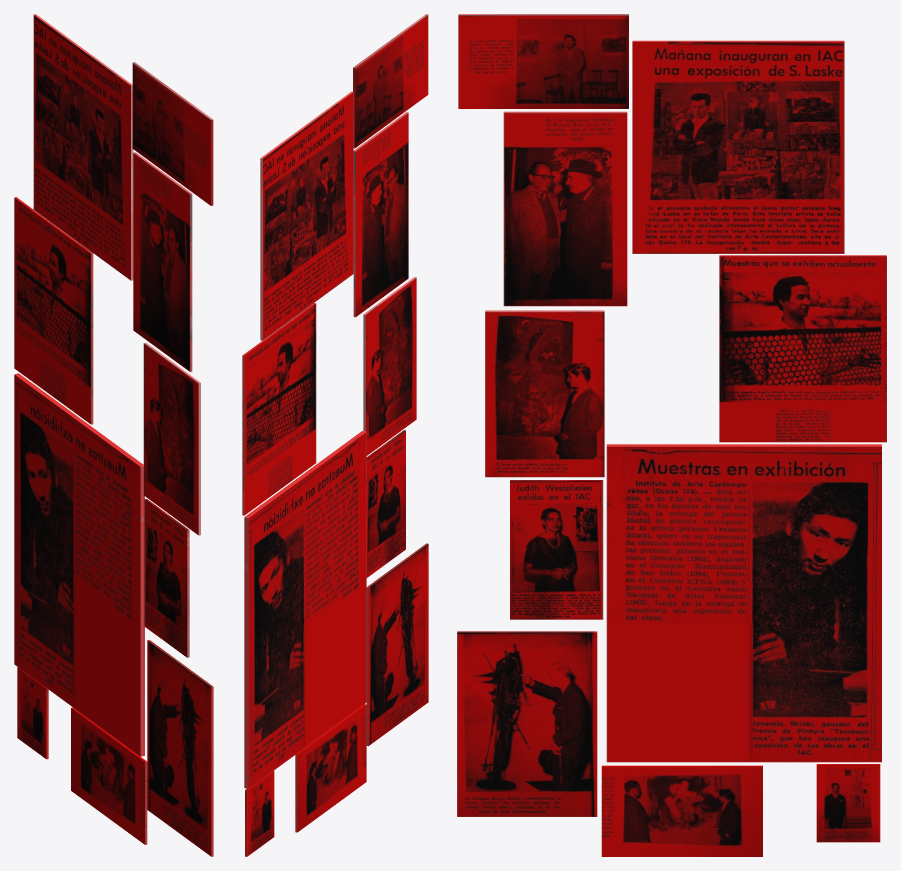
The model's file is modelo-ar-mac.gltf.
3 renders of one model, left to right at view 1: azimuth 30°, elevation 25°; view 2: azimuth 150°, elevation 25°; view 3: azimuth 270°, elevation 25°, orthographic. The views are drawn at different scales.
Parts seen in each view (by area): view 1: foto-1, foto-2, foto-3, foto-7, foto-4, foto-5, foto-10, foto-8, foto-6, foto-9; view 2: foto-1, foto-2, foto-3, foto-7, foto-4, foto-5, foto-10, foto-8, foto-6, foto-9; view 3: foto-1, foto-2, foto-3, foto-7, foto-4, foto-5, foto-10, foto-8, foto-6, foto-9.
Part boxes in pixels (x1,y1,x2,y2): foto-1: (14,373,144,756); foto-2: (33,14,133,280); foto-3: (14,197,93,424); foto-7: (147,639,213,856); foto-4: (133,152,192,371); foto-5: (143,342,200,535); foto-10: (132,62,213,205); foto-8: (71,707,147,844); foto-6: (144,498,189,657); foto-9: (17,667,48,759); foto-1: (244,431,366,788); foto-2: (260,91,353,340); foto-3: (242,303,316,515); foto-7: (366,543,428,746); foto-4: (353,112,408,317); foto-5: (363,277,416,455); foto-10: (353,14,428,148); foto-8: (295,704,366,832); foto-6: (366,430,405,577); foto-9: (245,771,274,856); foto-1: (606,444,881,762); foto-2: (632,40,844,253); foto-3: (719,255,886,442); foto-7: (457,631,597,816); foto-4: (503,111,627,306); foto-5: (485,310,604,477); foto-10: (458,14,628,108); foto-8: (601,765,762,856); foto-6: (510,480,603,619); foto-9: (816,764,880,842).
Bounding box in the file's own units: 0.0246 × 4.03 × 1.87.
10 materials, 10 textured.
